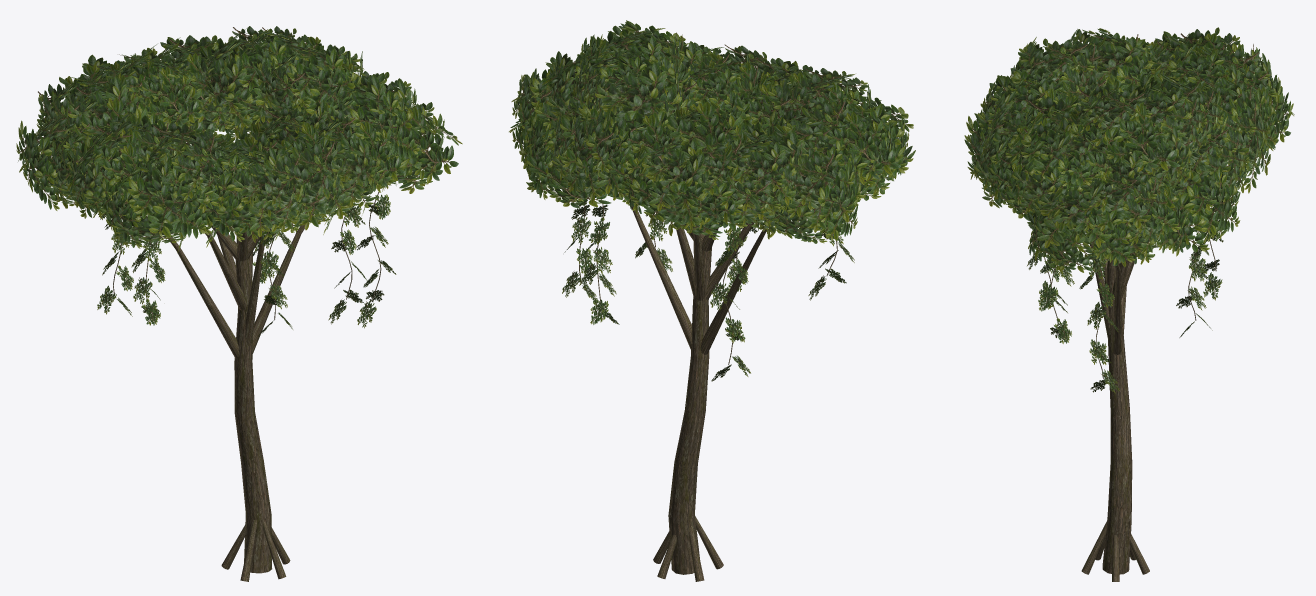
Rendered from tree_06.glb.
3 renders of one model, left to right at view 1: azimuth 30°, elevation 25°; view 2: azimuth 150°, elevation 25°; view 3: azimuth 270°, elevation 25°, orthographic. The views are drawn at different scales.
Visible parts, largest first — view 1: tree_06; view 2: tree_06; view 3: tree_06.
Part boxes in pixels (x1,y1,x2,y2): tree_06: (16, 26, 462, 581); tree_06: (509, 20, 915, 581); tree_06: (964, 27, 1294, 581).
Bounding box in the file's own units: 9.48 × 12 × 7.39.
2 materials, 2 textured.
